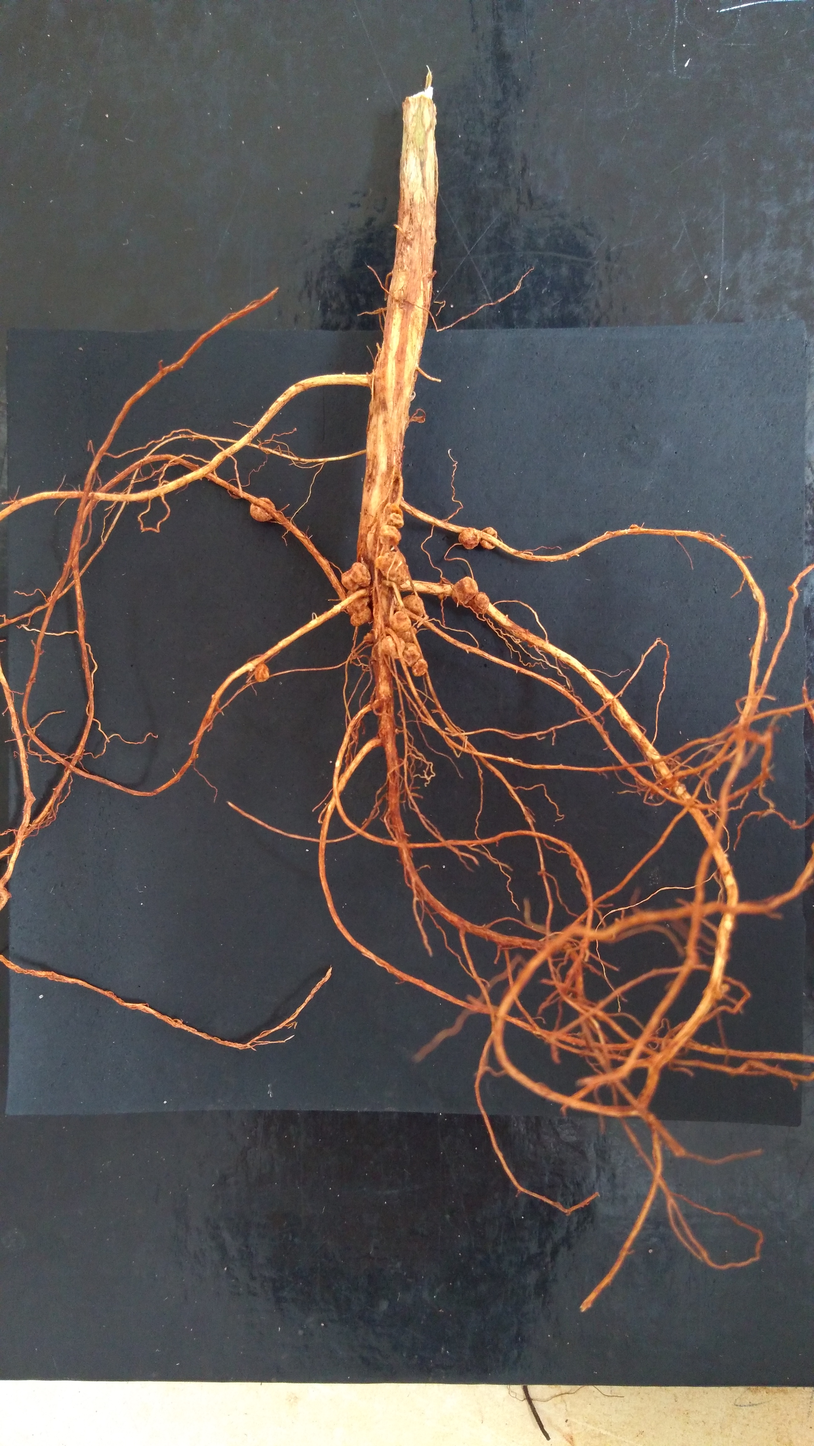nodule: (375, 552, 410, 586), (346, 589, 371, 627), (341, 561, 371, 592), (451, 576, 478, 605), (396, 594, 424, 621), (249, 497, 275, 522), (381, 635, 405, 659), (399, 642, 421, 667), (458, 527, 481, 550), (379, 524, 402, 547), (468, 591, 490, 615), (390, 610, 412, 632), (387, 503, 405, 529), (479, 526, 498, 549), (396, 625, 417, 642), (411, 658, 428, 677), (254, 662, 269, 683), (715, 983, 729, 1001), (363, 632, 375, 645), (629, 524, 640, 535), (438, 593, 445, 599)
